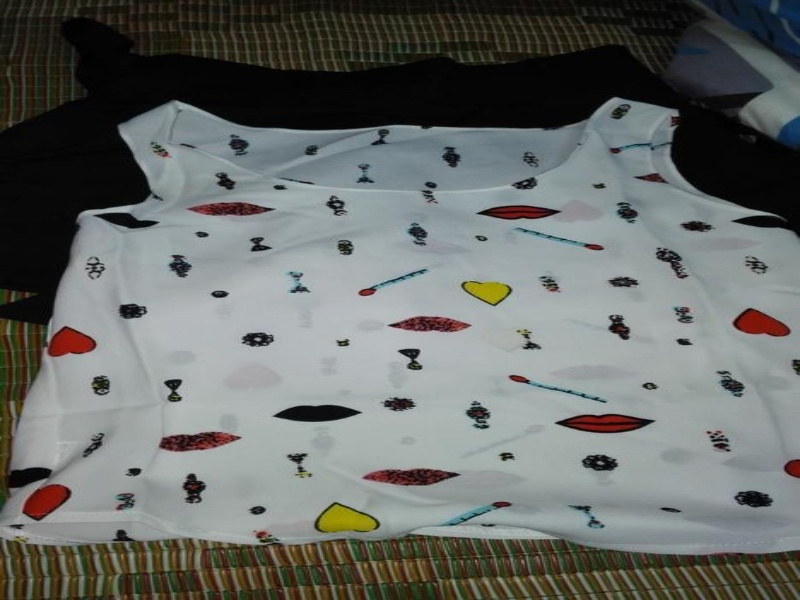shorts: (0, 19, 798, 326)
vest: (0, 94, 798, 560)
